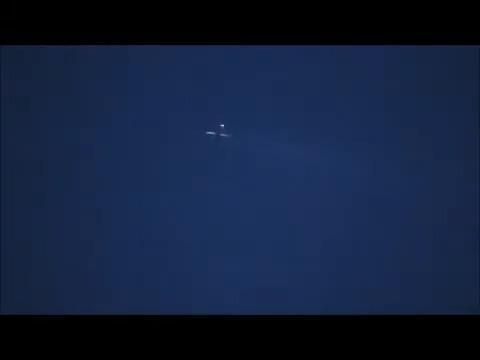Plane: (192, 118, 246, 147)
